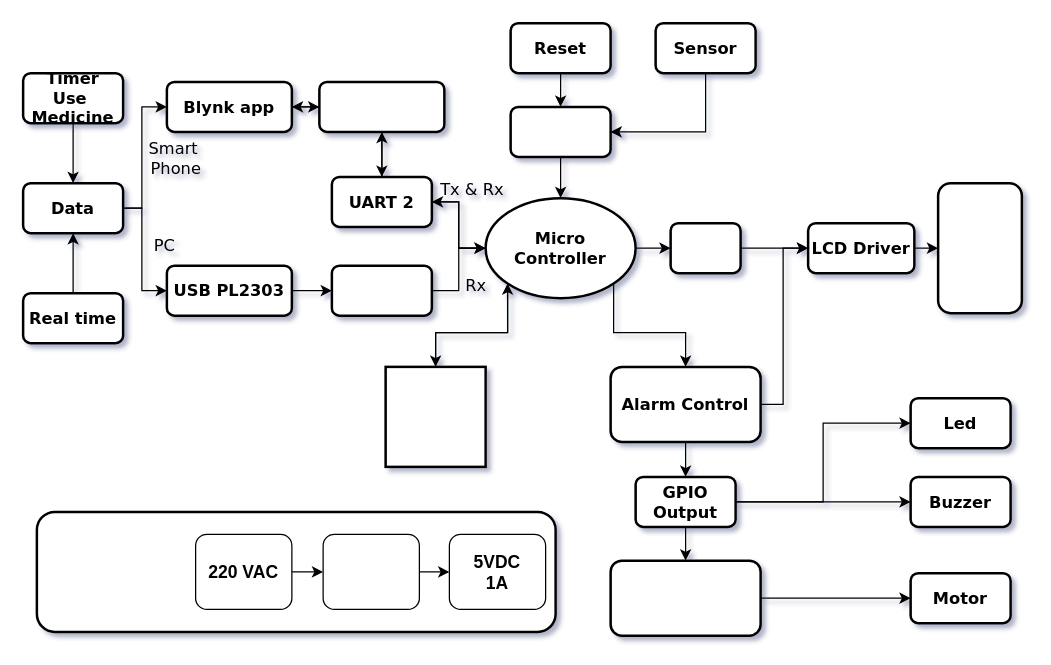
Image size: 1051x665. Some labels were removed from this diagram. Each missing label, with the box of its shape:
Adapter: (322, 533, 419, 609)
Flash Memmory: (384, 365, 486, 468)
GPIO Input: (509, 105, 611, 158)
Khối nguồn:: (35, 510, 556, 632)
L9110s: (609, 559, 761, 636)
LCD Display: (936, 181, 1022, 314)
Module Wifi: (318, 80, 445, 132)
RTC: (669, 221, 741, 274)
UART 3: (330, 264, 432, 316)
